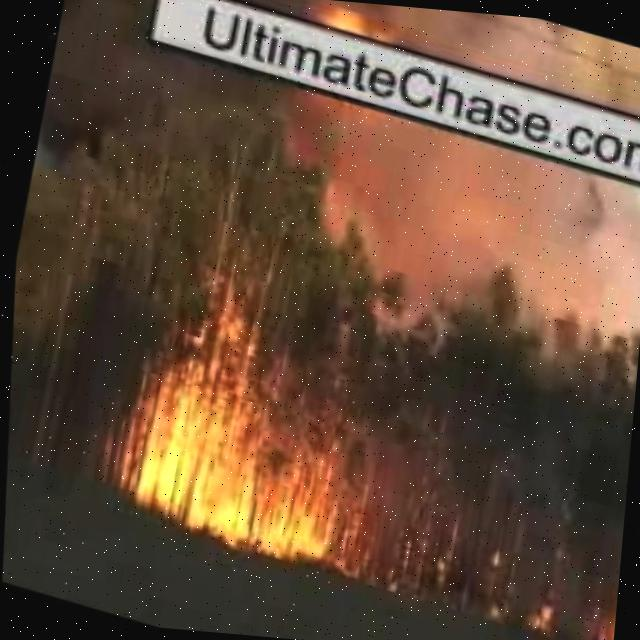fire: (84, 275, 404, 582), (319, 0, 389, 38), (580, 582, 618, 640), (522, 590, 551, 632)
